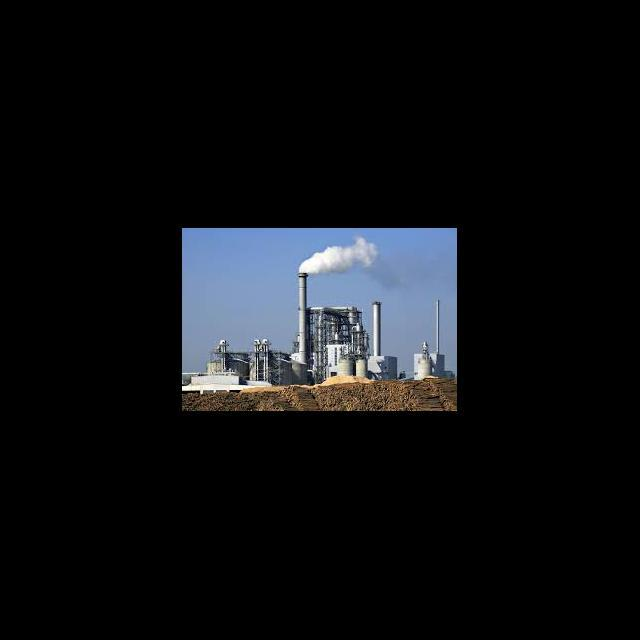Smoke: (304, 238, 382, 272)
